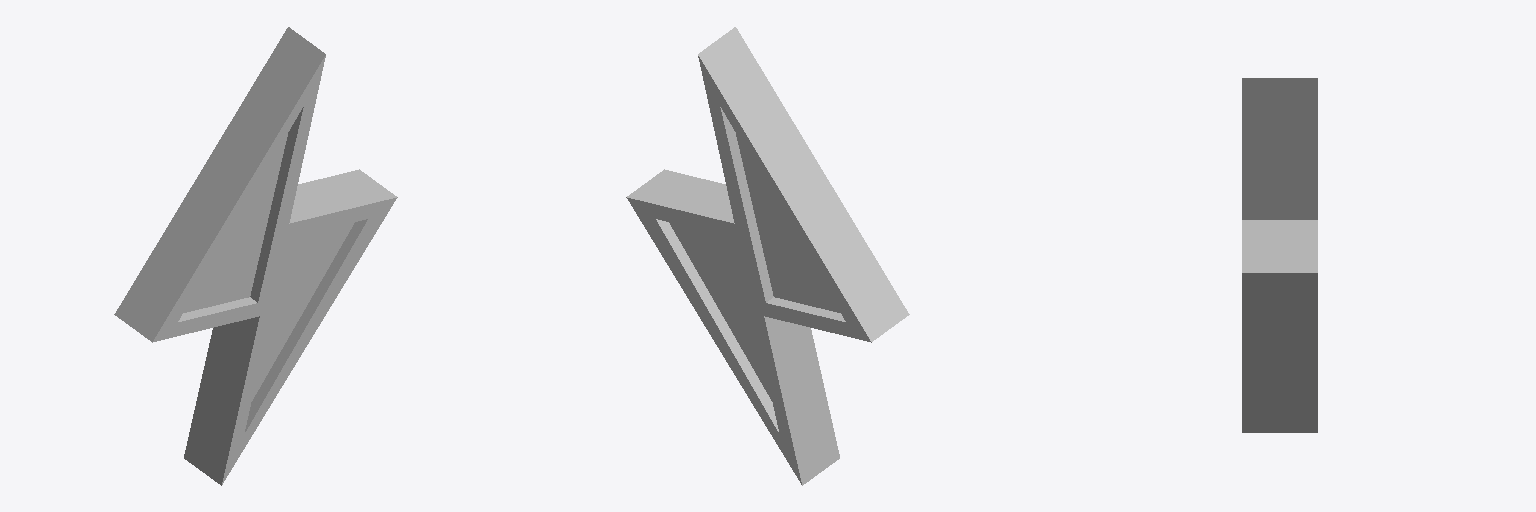
Rendered from Energy01.obj.
3 views of the same model, side by side, from view 1: azimuth 30°, elevation 25°; view 2: azimuth 150°, elevation 25°; view 3: azimuth 270°, elevation 25° (orthographic).
Parts seen in each view (by area): view 1: Energy01; view 2: Energy01; view 3: Energy01.
Boxes of the visible parts, x1=… form: Energy01: x1=114, y1=27, x2=397, y2=485; Energy01: x1=626, y1=27, x2=909, y2=485; Energy01: x1=1242, y1=78, x2=1317, y2=432.
Size of the model in its own units: 2.09 by 3.31 by 0.5604.